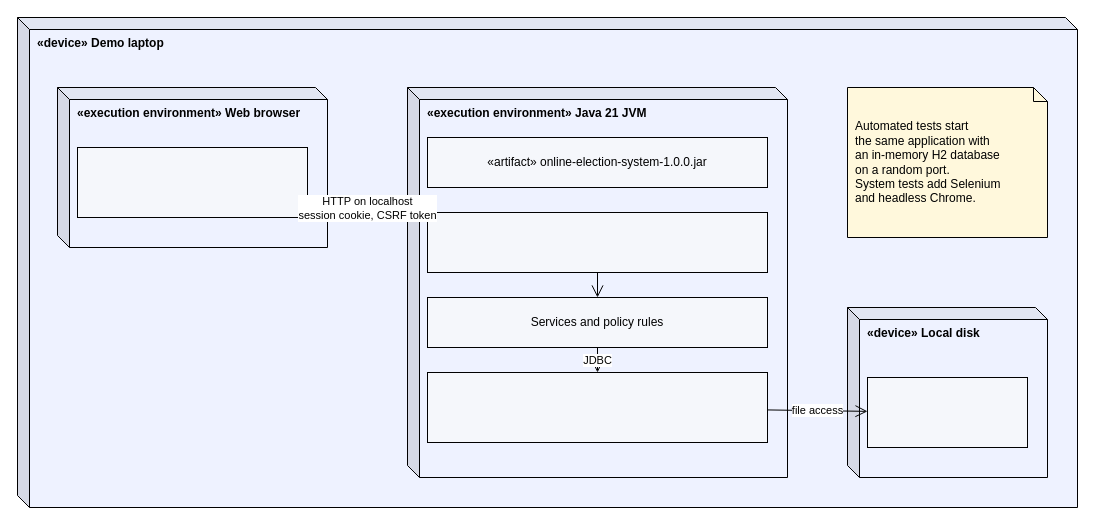
Some shapes in this 1095 by 525 pixel diagram are drawn without their labels. Here are the shapes that lost their labels. From the top down, the centre of each, then its label:
At [192,182]: "HTML pages and app.css (no external resources)".
At [597,242]: "Embedded Tomcat, port 8080 Spring MVC, Spring Security, Thymeleaf".
At [597,407]: "Embedded H2 engine, HikariCP pool Flyway migration at start-up".
At [947,412]: "data/demo/ election-demo.mv.db".
